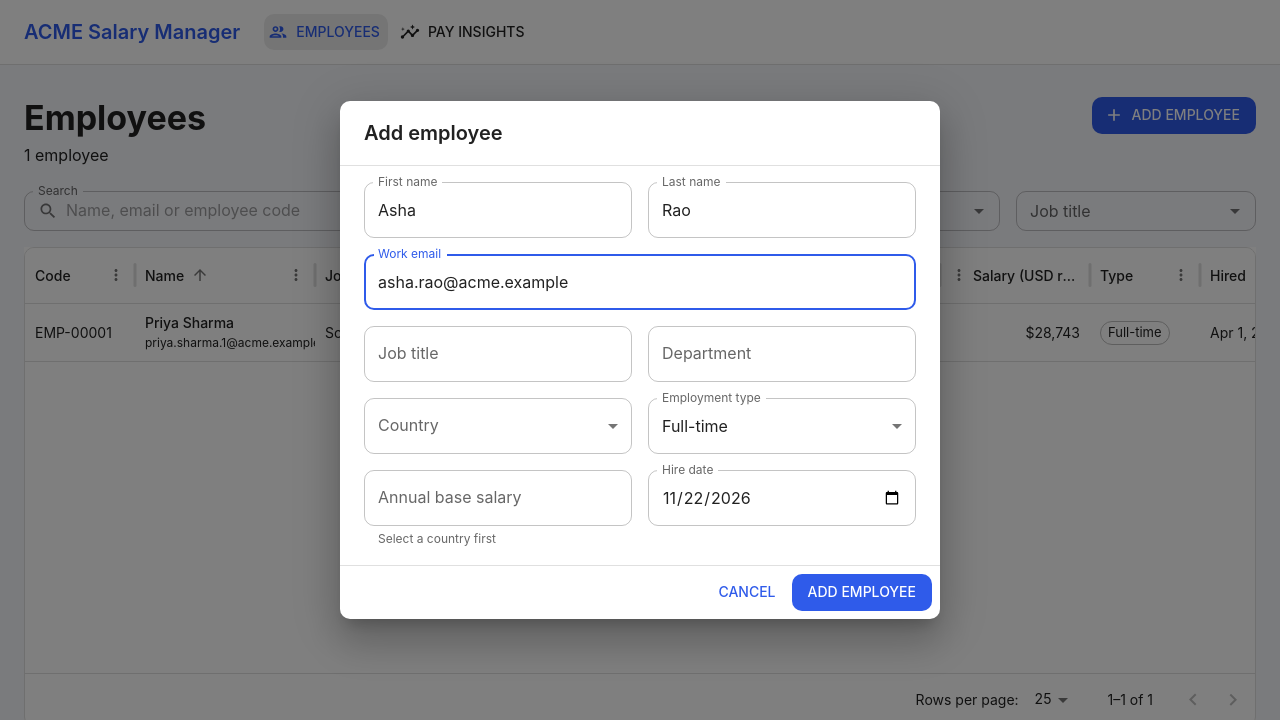
Test: managing employees › shows a duplicate email from the API on the email field
Earlier steps of the test are not shown.
In the dropdown labelled "Job title": (498, 354) [373, 335, 623, 373], type "Data Scientist"
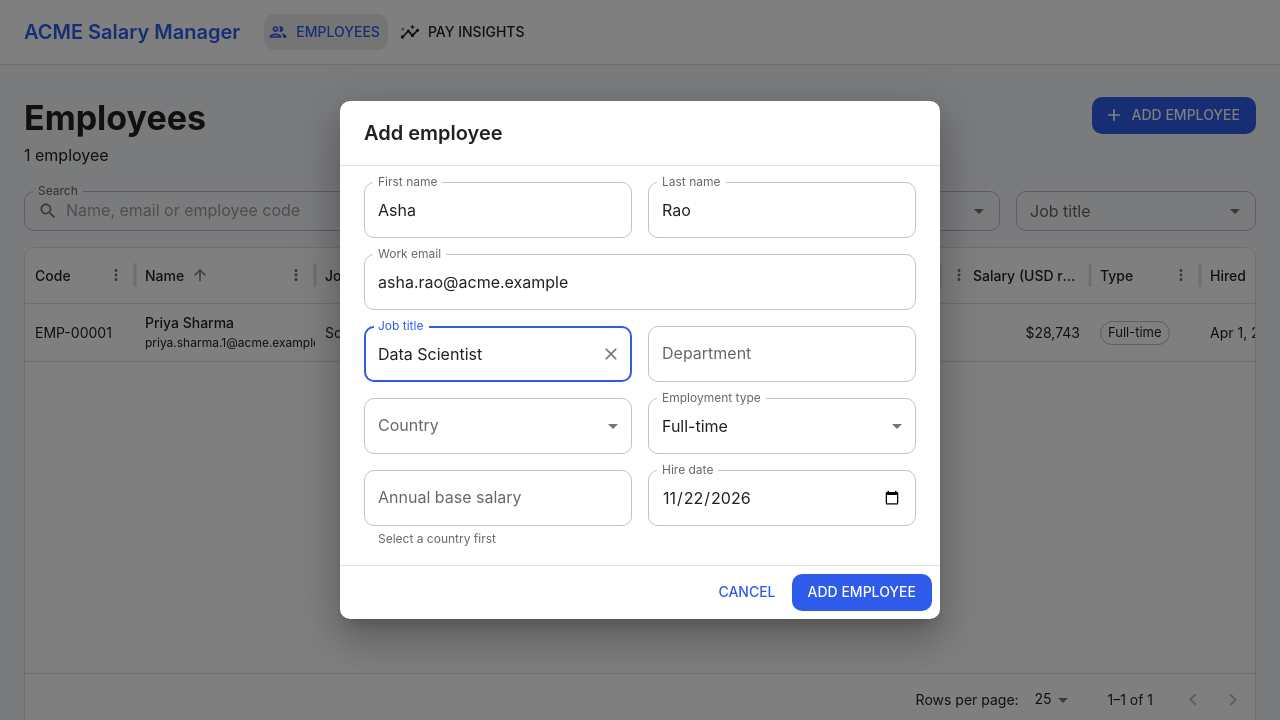
In the dropdown labelled "Department": (782, 354) [657, 335, 907, 373], type "Data"
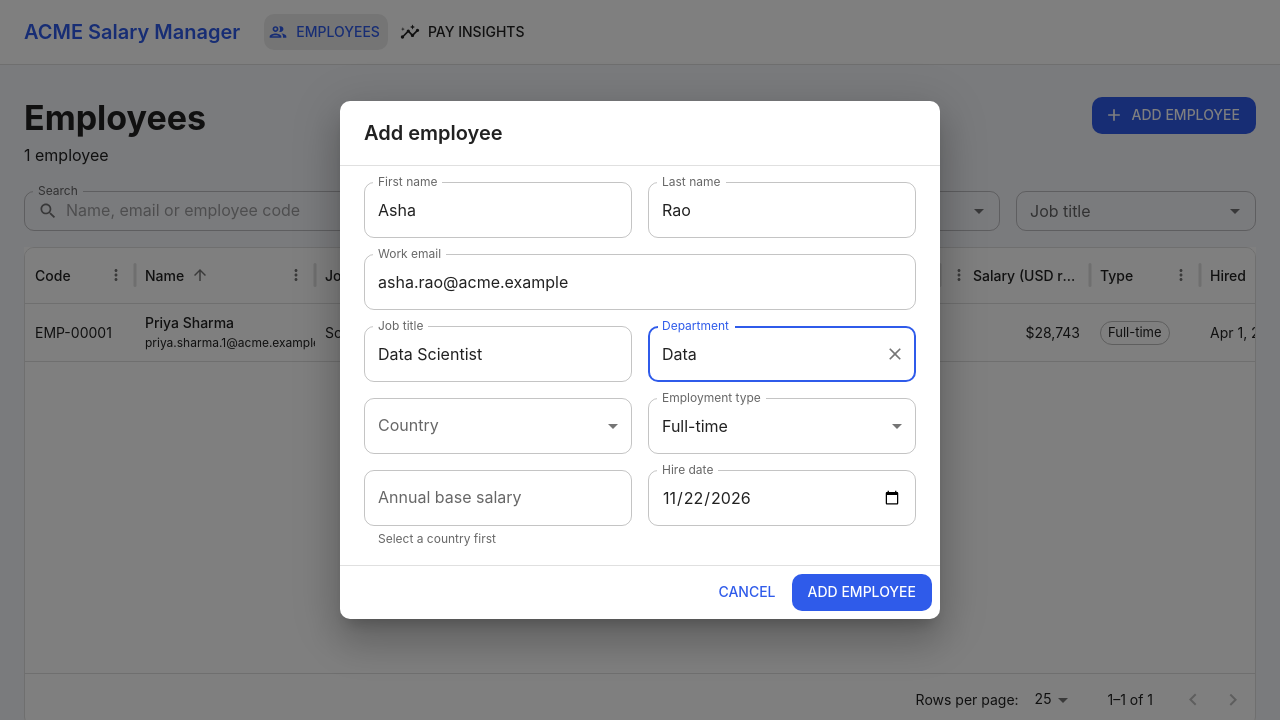
Click the dropdown named "Country": (498, 426) [364, 398, 632, 454]
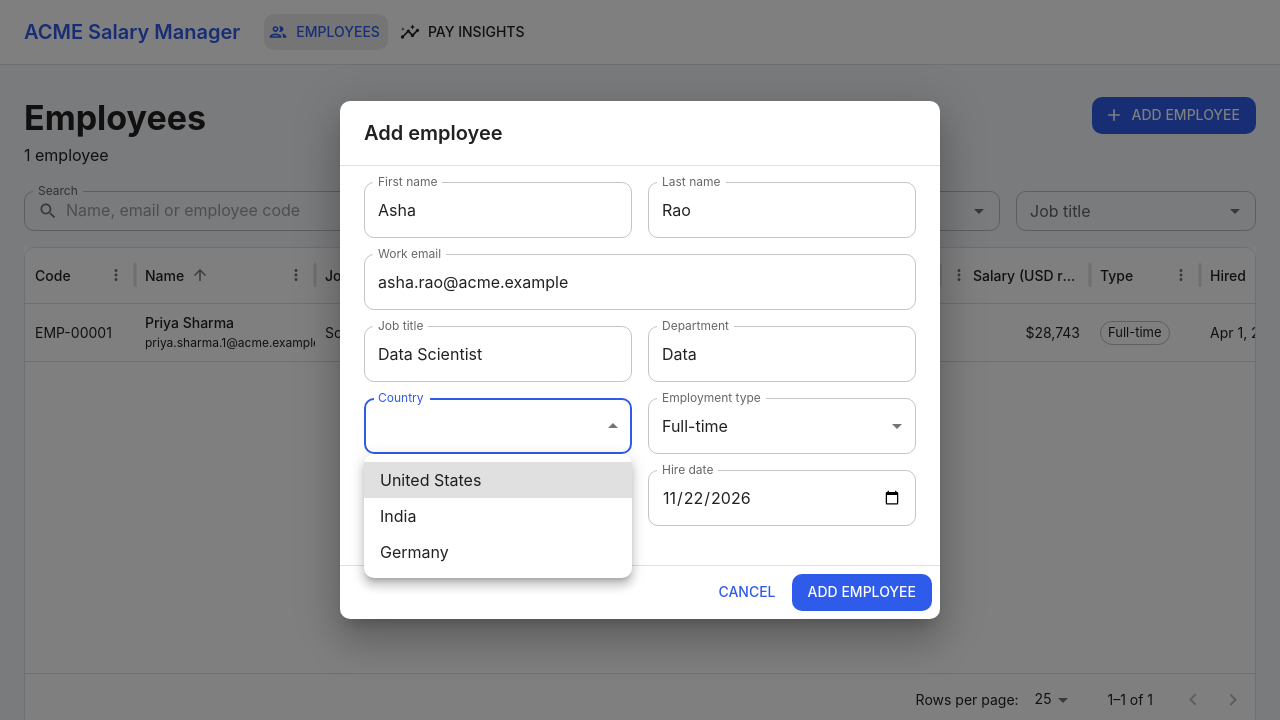
Click the option "India": (398, 516) [380, 506, 416, 526]
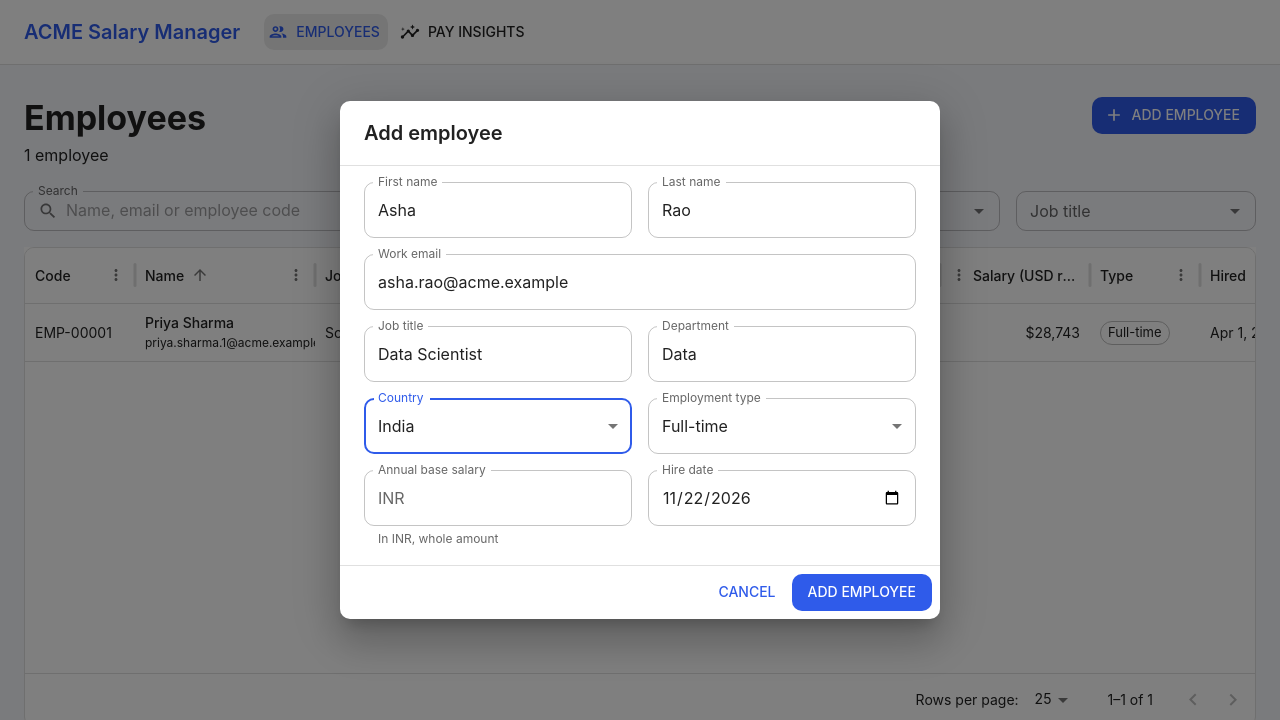
In the field labelled "Annual base salary": (522, 498) [413, 470, 632, 526], type "3,100,000"
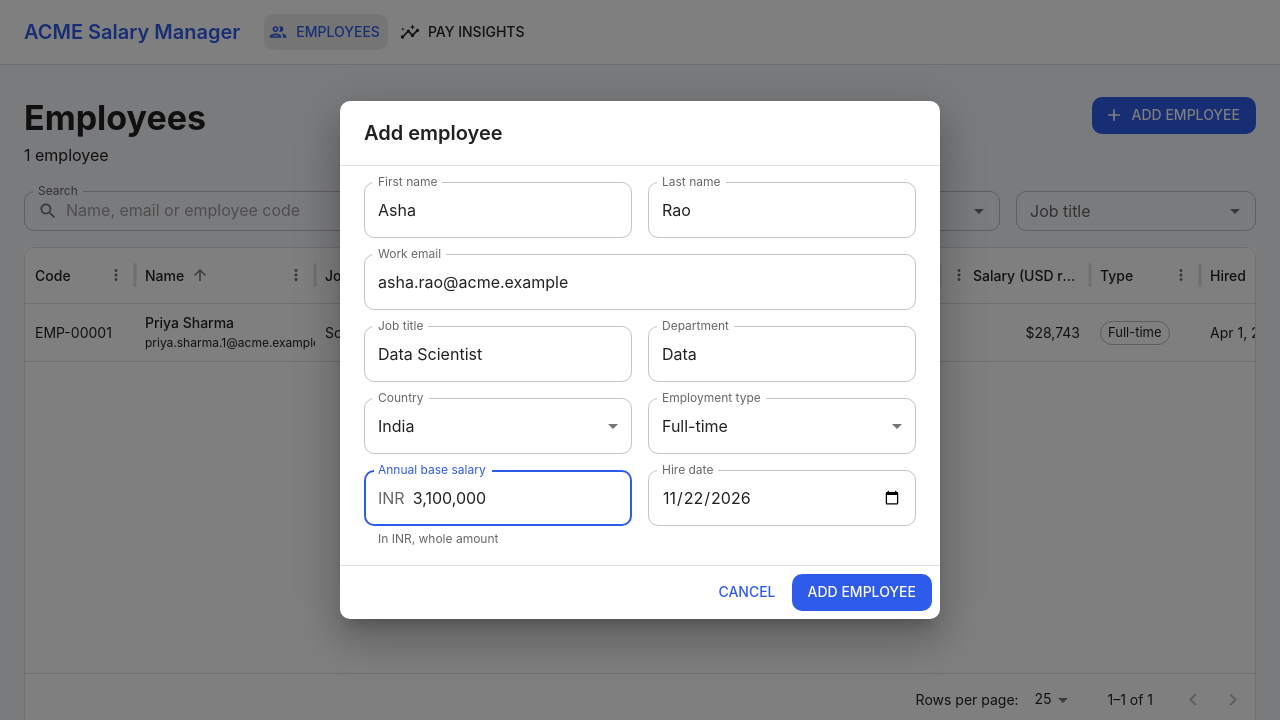
Click the button "Add employee": (862, 592) [792, 574, 932, 611]
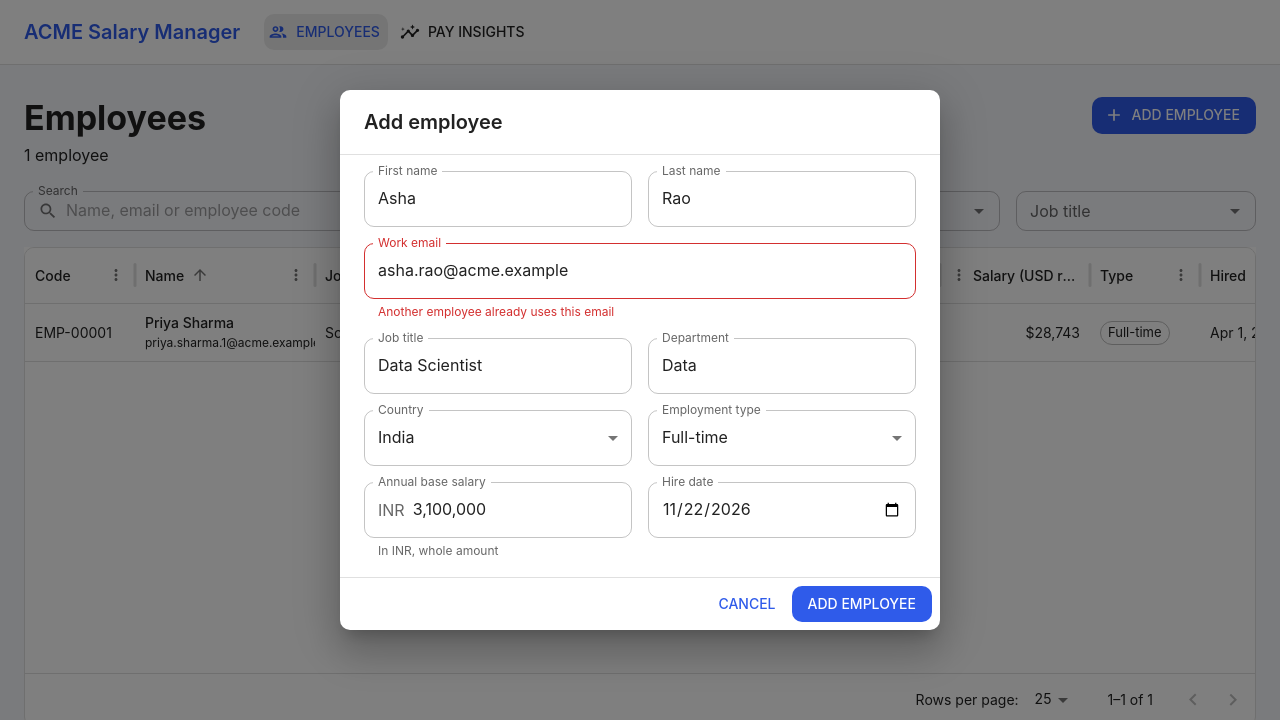
Now the dialog is shown, box [340, 90, 940, 630]
Now the text "Another employee already uses this email" is shown, box [378, 304, 614, 319]
